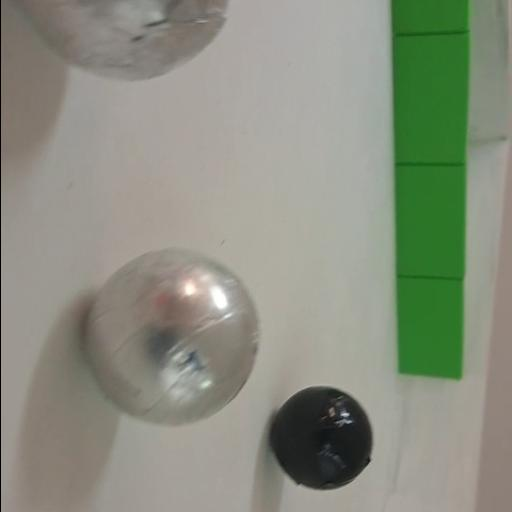alive: (78, 242, 263, 430), (12, 2, 230, 82)
dead: (268, 383, 376, 492)
